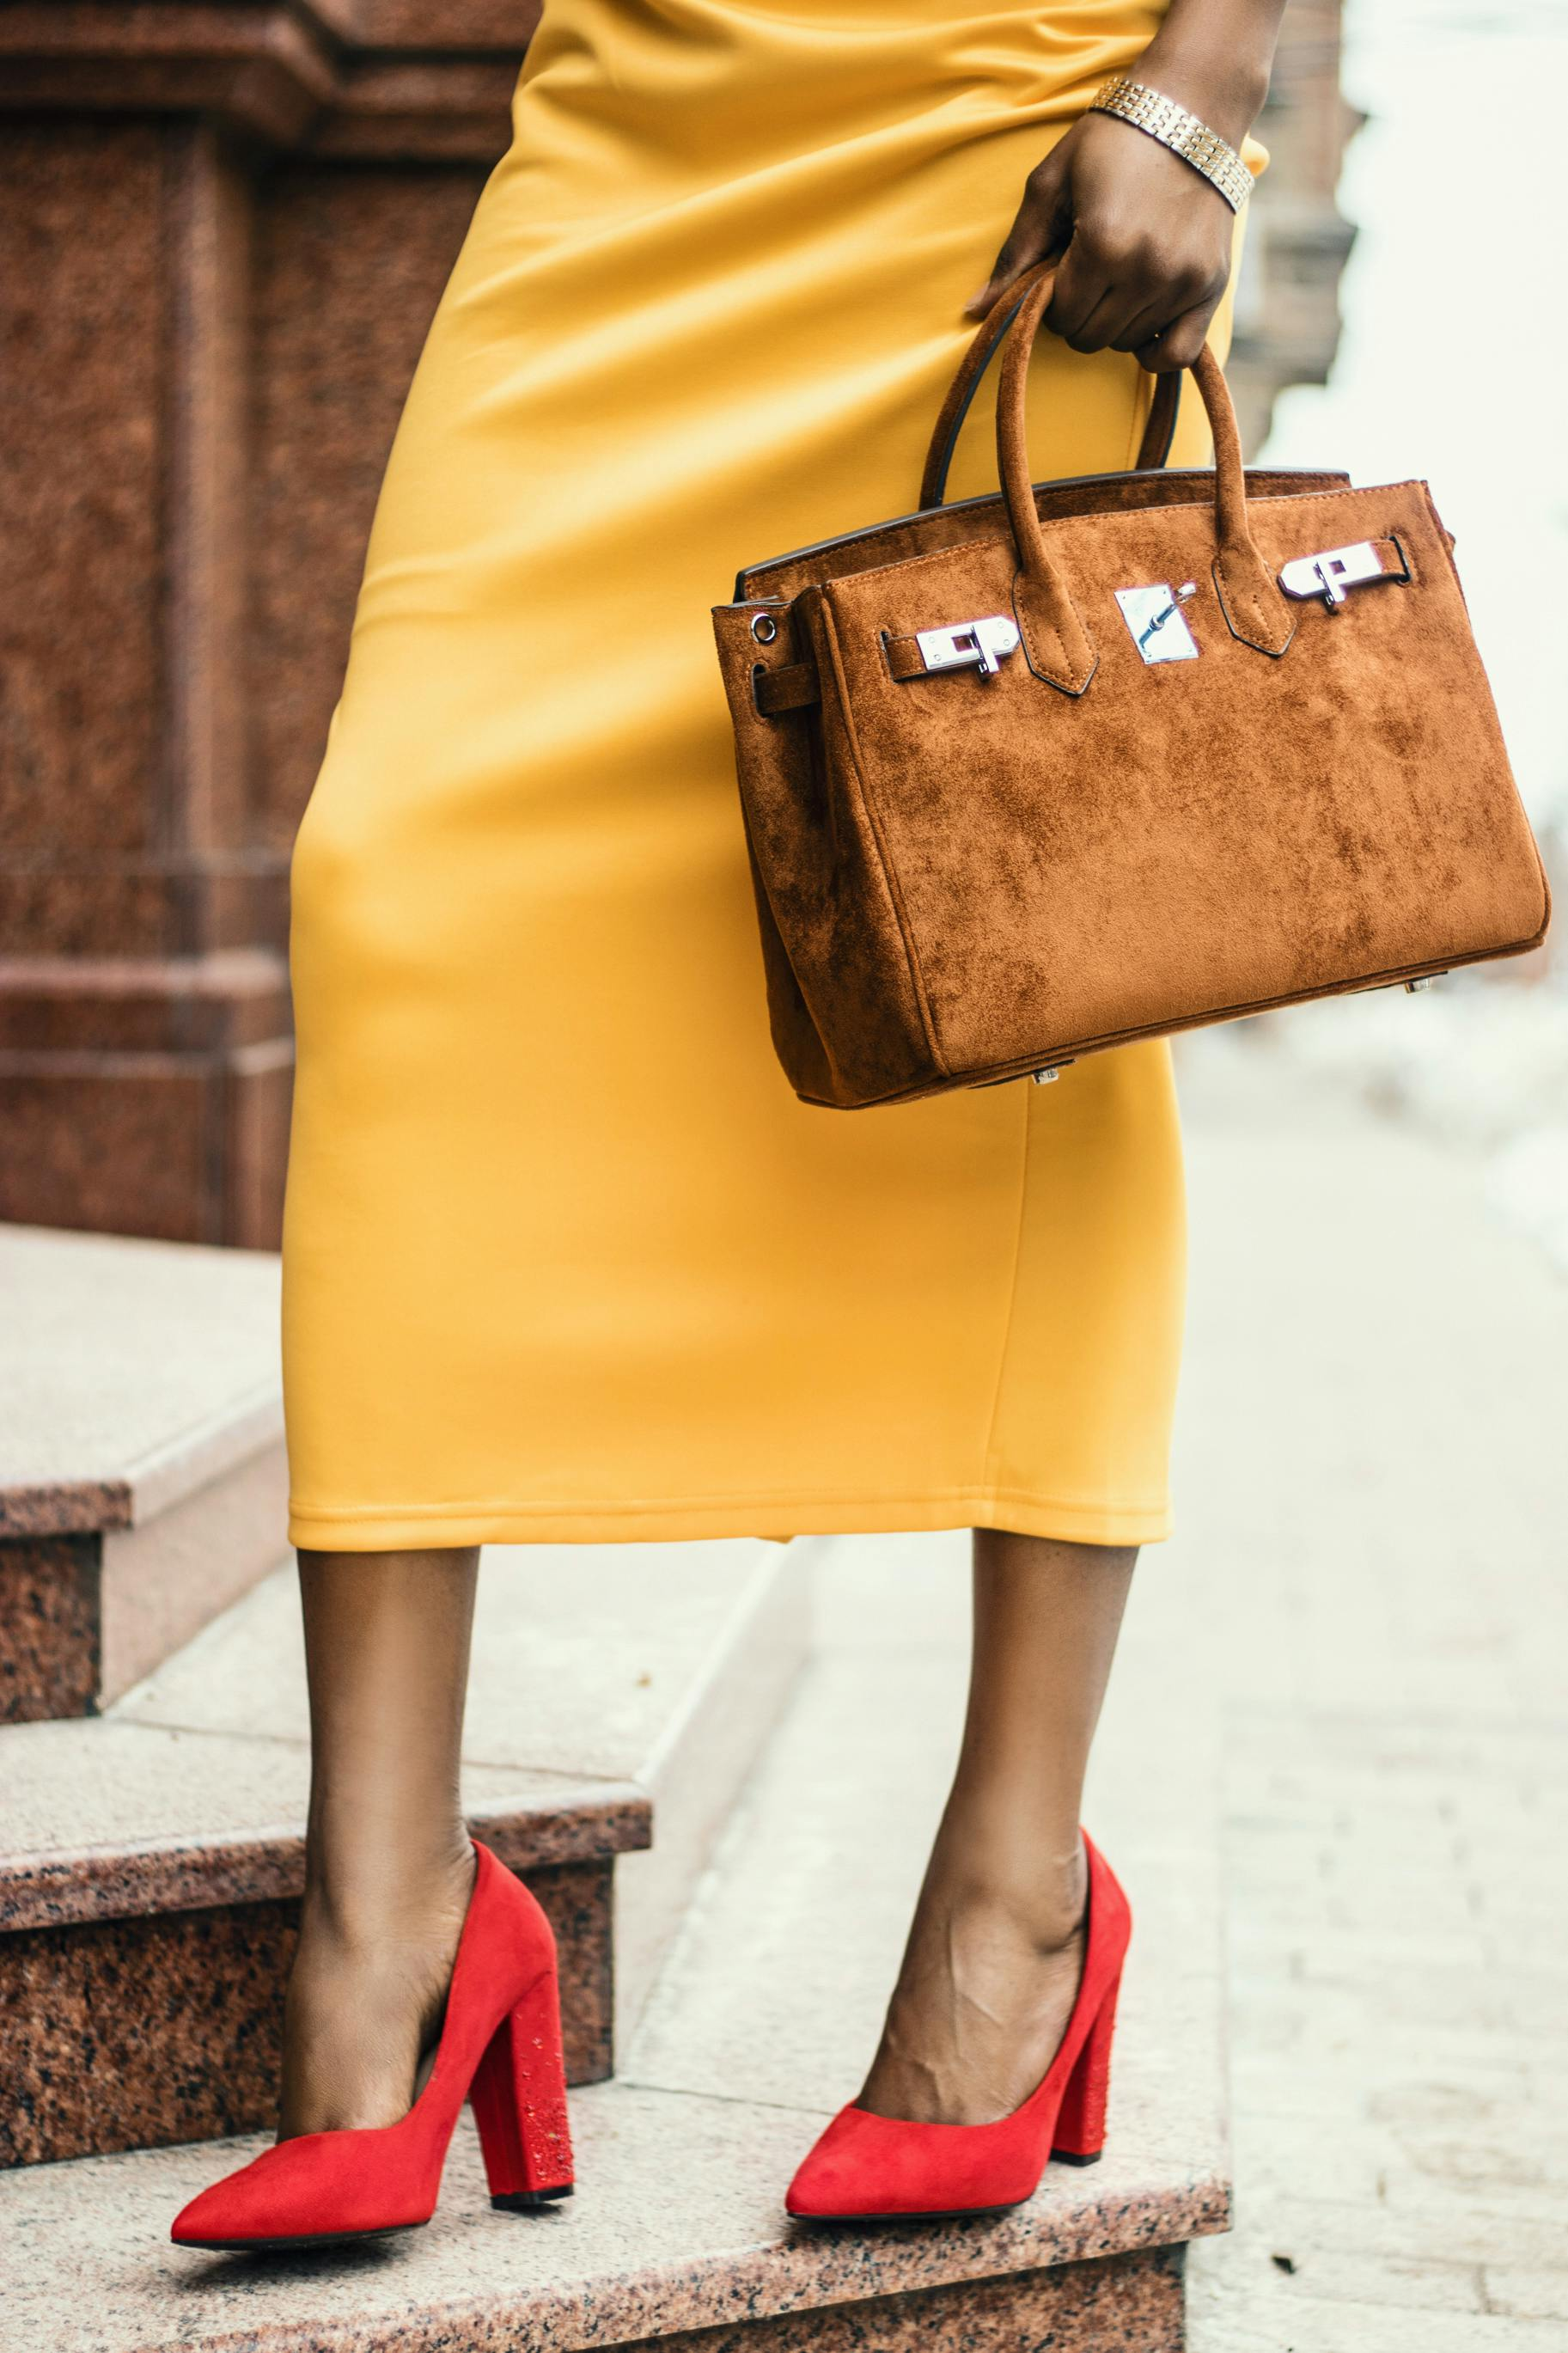Footwear: (126, 1835, 626, 2260), (759, 1824, 1207, 2239)
